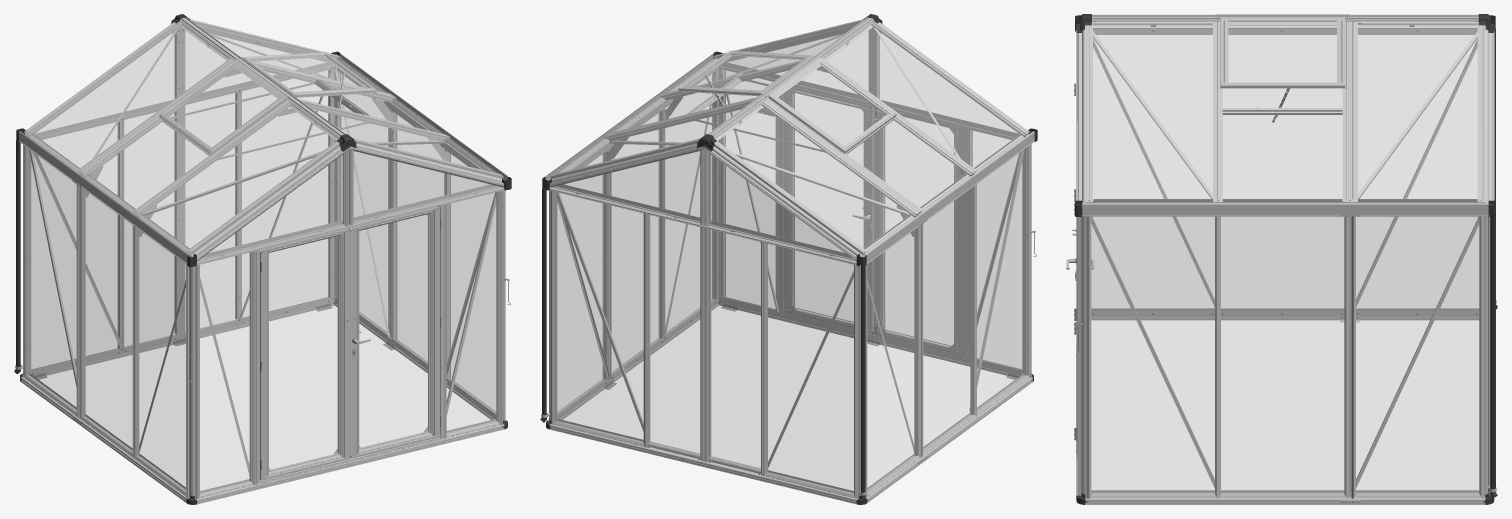
Rendered from EPH Zeus Comfort 6200 GLB Glass.glb.
3 views of the same model, side by side, from view 1: azimuth 30°, elevation 25°; view 2: azimuth 150°, elevation 25°; view 3: azimuth 270°, elevation 25° (orthographic). The views are drawn at different scales.
Visible parts, largest first — view 1: Block:HKP_E, Block:roof PC 16mm, Layer:7033_capping side double, Block:7237_7238 (×4), Block:7236 (×4), Block:7006 (×3), Block:7133 (×2), Block:7005 (×4), Block:7148 (×4), Block:7141 (×2), Block:7138, Block:7139_7140 (×2) (+26 smaller); view 2: Block:HKP_E, Block:roof PC 16mm, Layer:7033_capping side double, Block:7237_7238 (×4), Block:7133 (×2), Block:7236 (×4), Layer:7032_capping side single, Block:7256 (×2), Block:7006 (×3), Block:7139_7140 (×2), Block:7141 (×2), Block:7134 (+23 smaller); view 3: Block:HKP_E, Block:roof PC 16mm, Layer:7033_capping side double, Block:7001 (×2), Block:7269 (×4), Block:7237_7238 (×2), Block:7213, Block:7236 (×2), Block:7225 (×2), Layer:7034_capping, Block:7256, Block:7250 (+15 smaller).
Boxes of the visible parts, left/top/right/bottom form: Block:HKP_E: left=26, top=32, right=500, bottom=493; Block:roof PC 16mm: left=28, top=22, right=496, bottom=250; Layer:7033_capping side double: left=23, top=70, right=505, bottom=499; Block:7237_7238 (×4): left=24, top=19, right=502, bottom=256; Block:7236 (×4): left=26, top=69, right=503, bottom=496; Block:7006 (×3): left=82, top=105, right=396, bottom=416; Block:7133 (×2): left=30, top=296, right=504, bottom=504; Block:7005 (×4): left=118, top=91, right=449, bottom=455; Block:7148 (×4): left=266, top=210, right=433, bottom=476; Block:7141 (×2): left=260, top=209, right=439, bottom=478; Block:7138: left=197, top=184, right=504, bottom=265; Block:7139_7140 (×2): left=249, top=205, right=444, bottom=482; Block:HKP_E: left=553, top=32, right=1027, bottom=493; Block:roof PC 16mm: left=557, top=22, right=1025, bottom=250; Layer:7033_capping side double: left=549, top=70, right=1031, bottom=498; Block:7237_7238 (×4): left=550, top=19, right=1028, bottom=256; Block:7133 (×2): left=549, top=296, right=1023, bottom=504; Block:7236 (×4): left=549, top=68, right=1028, bottom=495; Layer:7032_capping side single: left=643, top=112, right=976, bottom=476; Block:7256 (×2): left=603, top=97, right=921, bottom=217; Block:7006 (×3): left=603, top=146, right=917, bottom=459; Block:7139_7140 (×2): left=775, top=93, right=971, bottom=357; Block:7141 (×2): left=784, top=91, right=961, bottom=351; Block:7134: left=549, top=184, right=856, bottom=265; Block:HKP_E: left=1091, top=35, right=1478, bottom=493; Block:roof PC 16mm: left=1093, top=21, right=1477, bottom=202; Layer:7033_capping side double: left=1077, top=215, right=1490, bottom=498; Block:7001 (×2): left=1085, top=309, right=1350, bottom=504; Block:7269 (×4): left=1091, top=39, right=1479, bottom=487; Block:7237_7238 (×2): left=1081, top=21, right=1489, bottom=207; Block:7213: left=1082, top=203, right=1350, bottom=216; Block:7236 (×2): left=1080, top=214, right=1489, bottom=494; Block:7225 (×2): left=1350, top=309, right=1485, bottom=504; Layer:7034_capping: left=1090, top=308, right=1481, bottom=498; Block:7256: left=1342, top=21, right=1357, bottom=202; Block:7250: left=1092, top=14, right=1350, bottom=28.
Bounding box in the file's own units: 2.6 × 2.51 × 2.48.
Materials: 4 (1 with a texture image).
